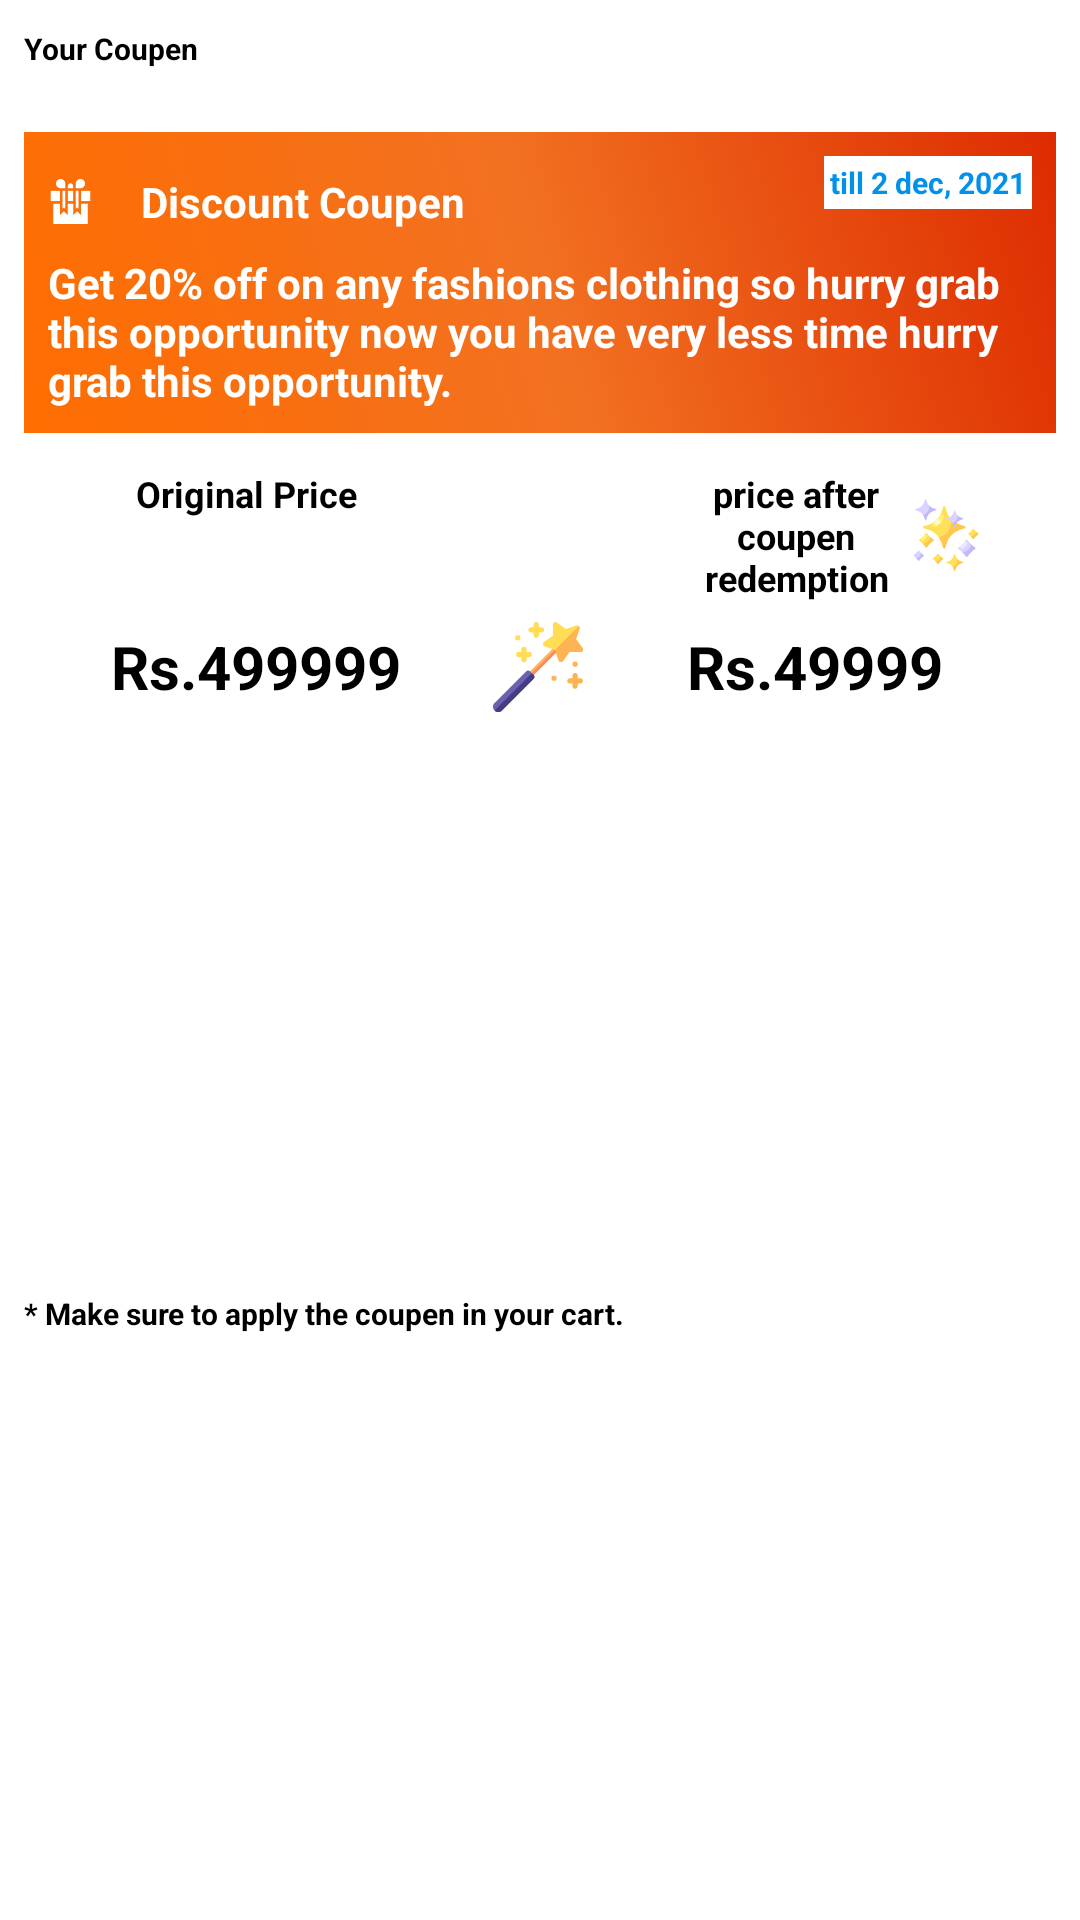

Icons on this 1080px×1920px Android screen, each with the point to tap as point (x, y):
magic wand: point (538, 667)
rewards: point (70, 201)
